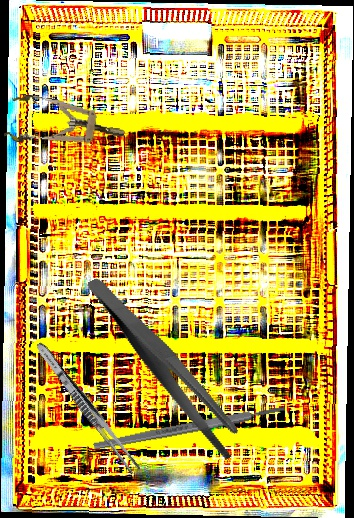Dressing Forceps: (86, 251, 247, 482), (32, 339, 143, 476)
Scalpel Handle: (92, 403, 287, 452)
Speculum: (2, 91, 129, 159)
